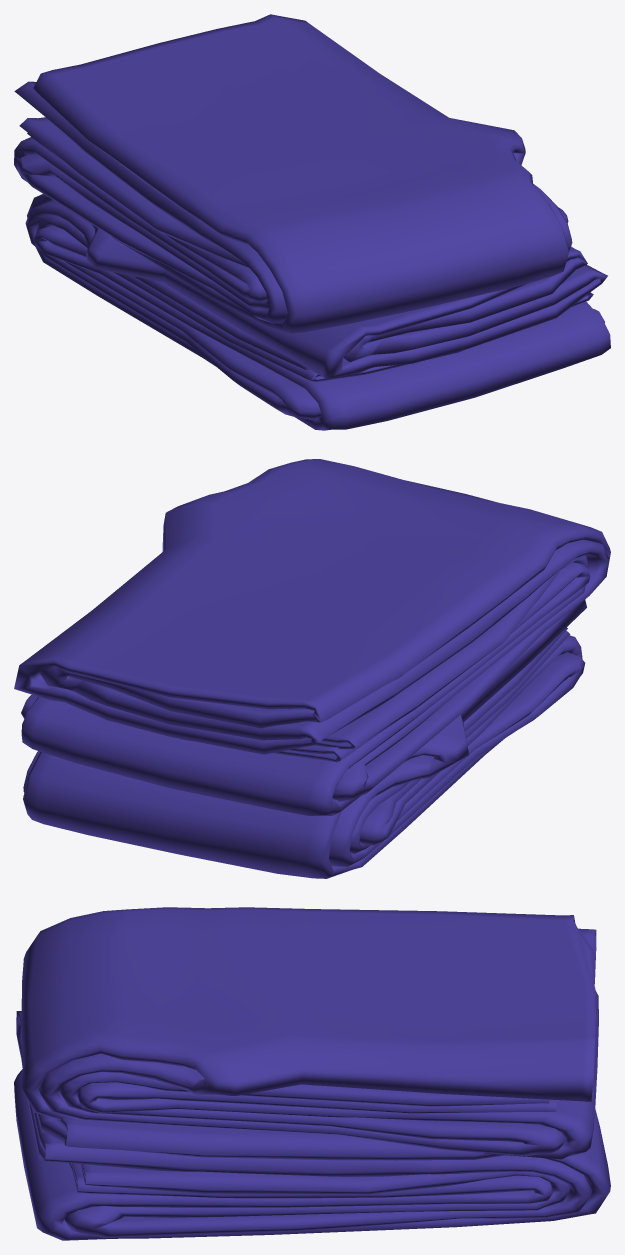
Rendered from Folded_Pant12.fbx.
3 renders of one model, top to bottom at view 1: azimuth 30°, elevation 25°; view 2: azimuth 150°, elevation 25°; view 3: azimuth 270°, elevation 25°, orthographic. The views are drawn at different scales.
Visible parts, largest first — view 1: Folded_Pant12; view 2: Folded_Pant12; view 3: Folded_Pant12.
Boxes of the visible parts, x1=… form: Folded_Pant12: x1=14, y1=14, x2=610, y2=430; Folded_Pant12: x1=14, y1=459, x2=610, y2=878; Folded_Pant12: x1=14, y1=907, x2=610, y2=1240.
Bounding box in the file's own units: 25.03 × 11.51 × 34.5.
